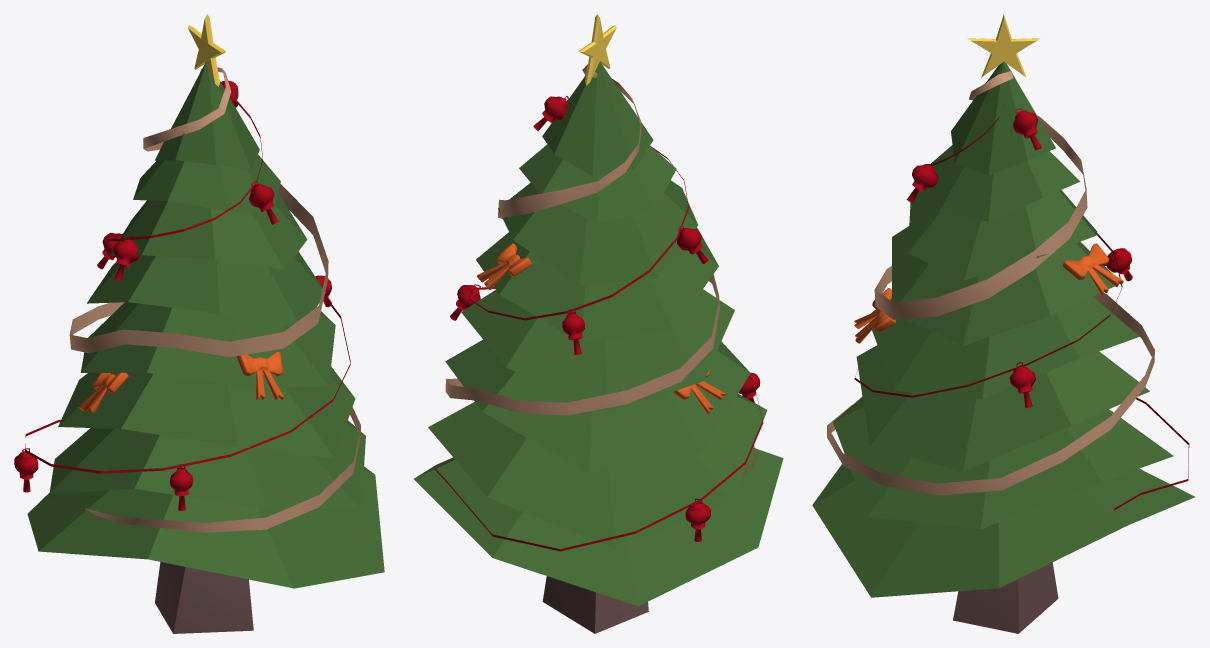
File: tree-tex.obj
The picture shows the model from 3 angles, left to right: view 1: azimuth 30°, elevation 25°; view 2: azimuth 150°, elevation 25°; view 3: azimuth 270°, elevation 25°; orthographic projection.
Parts seen in each view (by area): view 1: Cone; view 2: Cone; view 3: Cone.
Part boxes in pixels (x1,y1,x2,y2): Cone: (14,14,384,633); Cone: (414,14,783,633); Cone: (812,14,1195,633).
Size of the model in its own units: 2.68 by 4.65 by 2.71.
